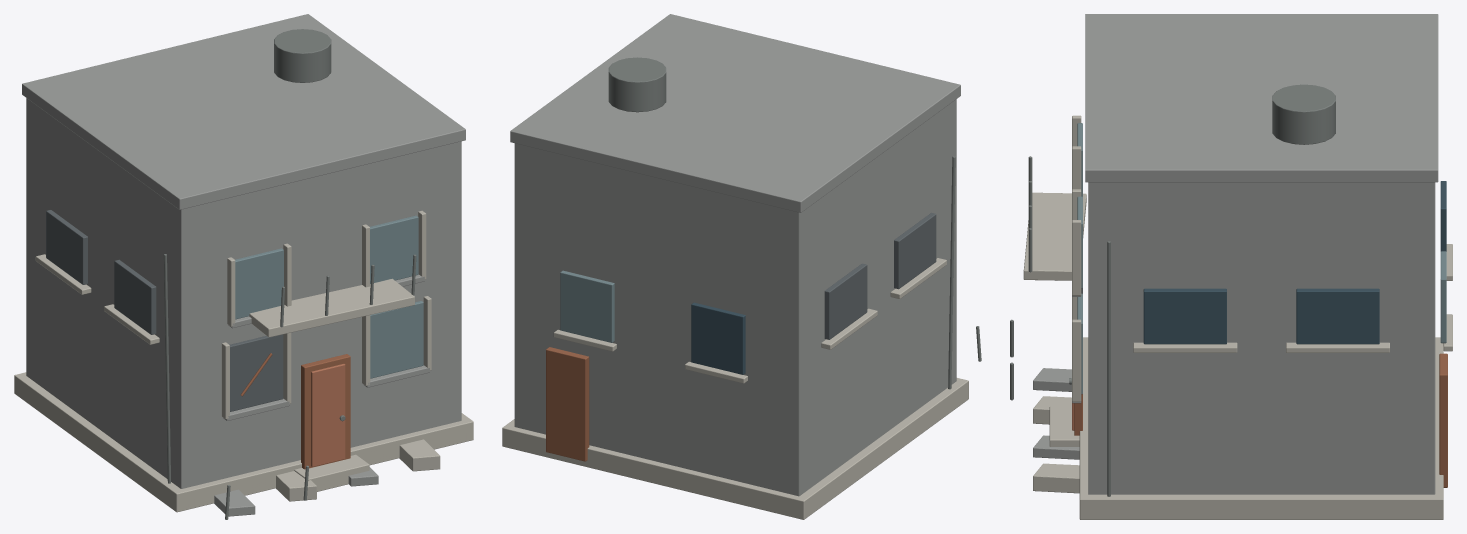
Rendered from Apoc_House_02_Concrete_Duplex.fbx.
The picture shows the model from 3 angles, left to right: view 1: azimuth 30°, elevation 25°; view 2: azimuth 150°, elevation 25°; view 3: azimuth 270°, elevation 25°; orthographic projection. The views are drawn at different scales.
Parts seen in each view (by area): view 1: Apoc_House_02_Concrete_Duplex; view 2: Apoc_House_02_Concrete_Duplex; view 3: Apoc_House_02_Concrete_Duplex.
Part boxes in pixels (left/top/right/bottom): Apoc_House_02_Concrete_Duplex: left=14, top=14, right=473, bottom=519; Apoc_House_02_Concrete_Duplex: left=502, top=14, right=981, bottom=519; Apoc_House_02_Concrete_Duplex: left=1010, top=14, right=1452, bottom=519.
Bounding box in the file's own units: 5.06 × 5.5 × 5.74.
